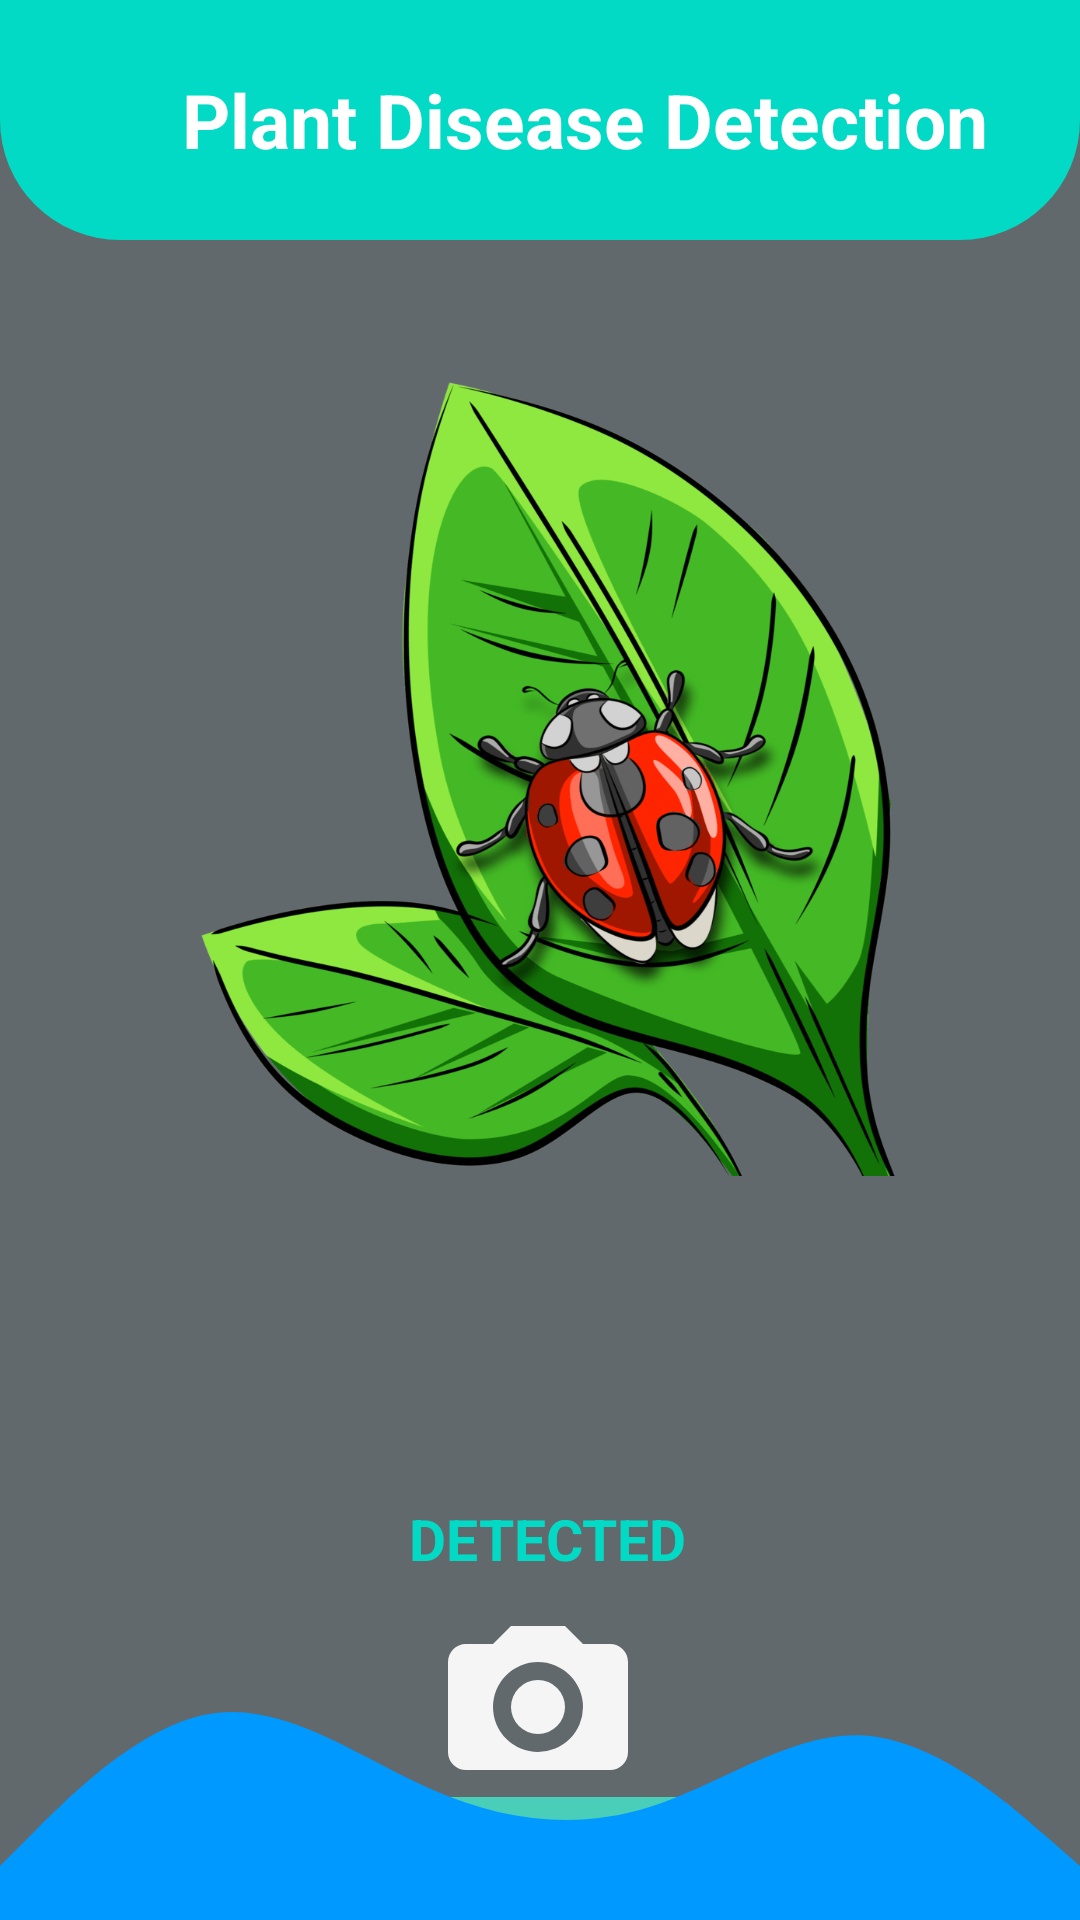

Icon bounding boxes for this 1080*1920 phone screenshot, format (x1, y1, x2, y2):
camera: (448, 1626, 628, 1770)
